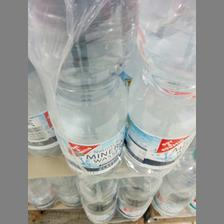Wasser: (29, 1, 124, 172), (126, 0, 194, 172)
